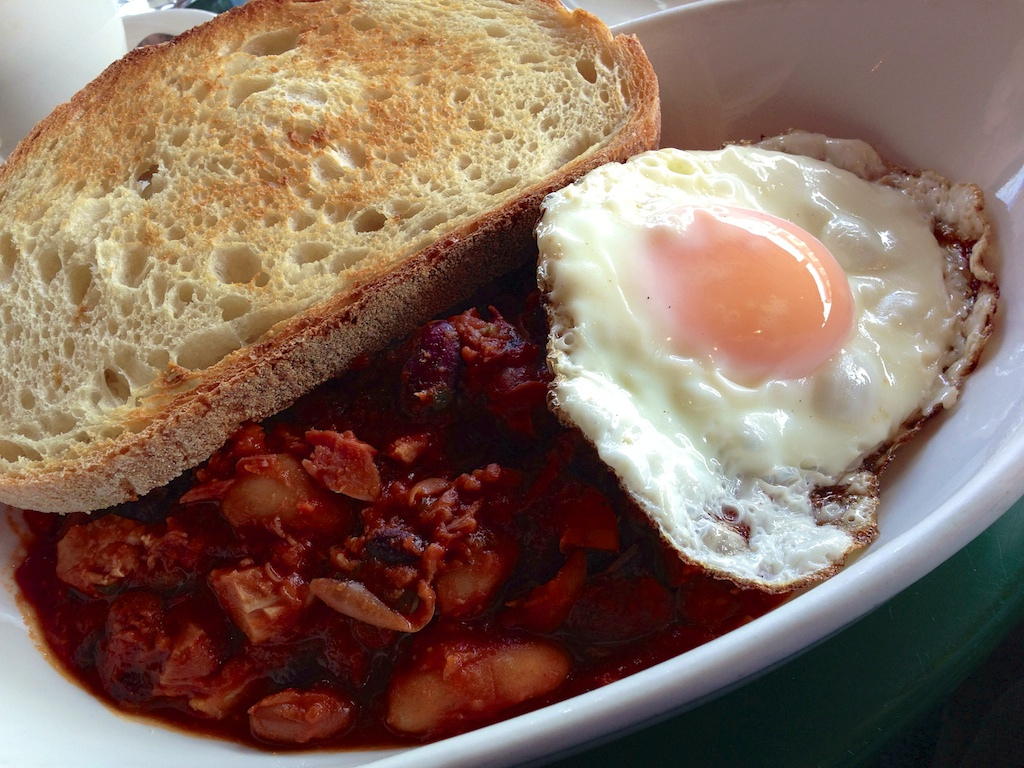fried egg: (544, 137, 962, 552)
slice of bread: (3, 7, 646, 521)
